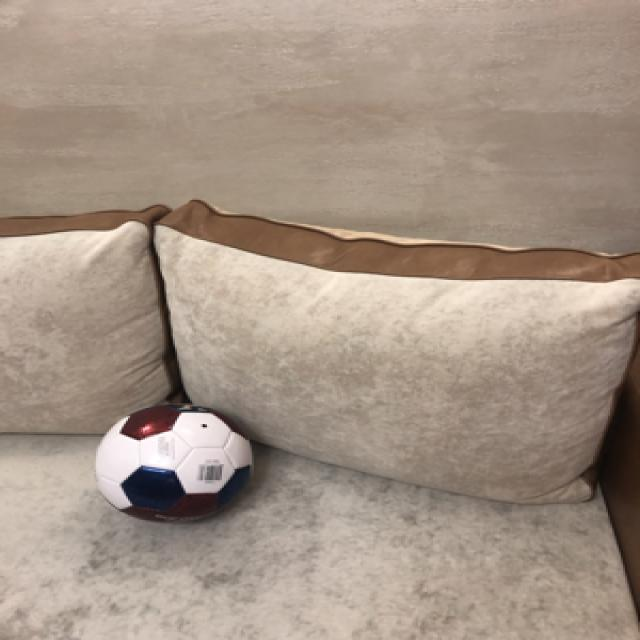soccer_ball: (87, 400, 256, 522)
